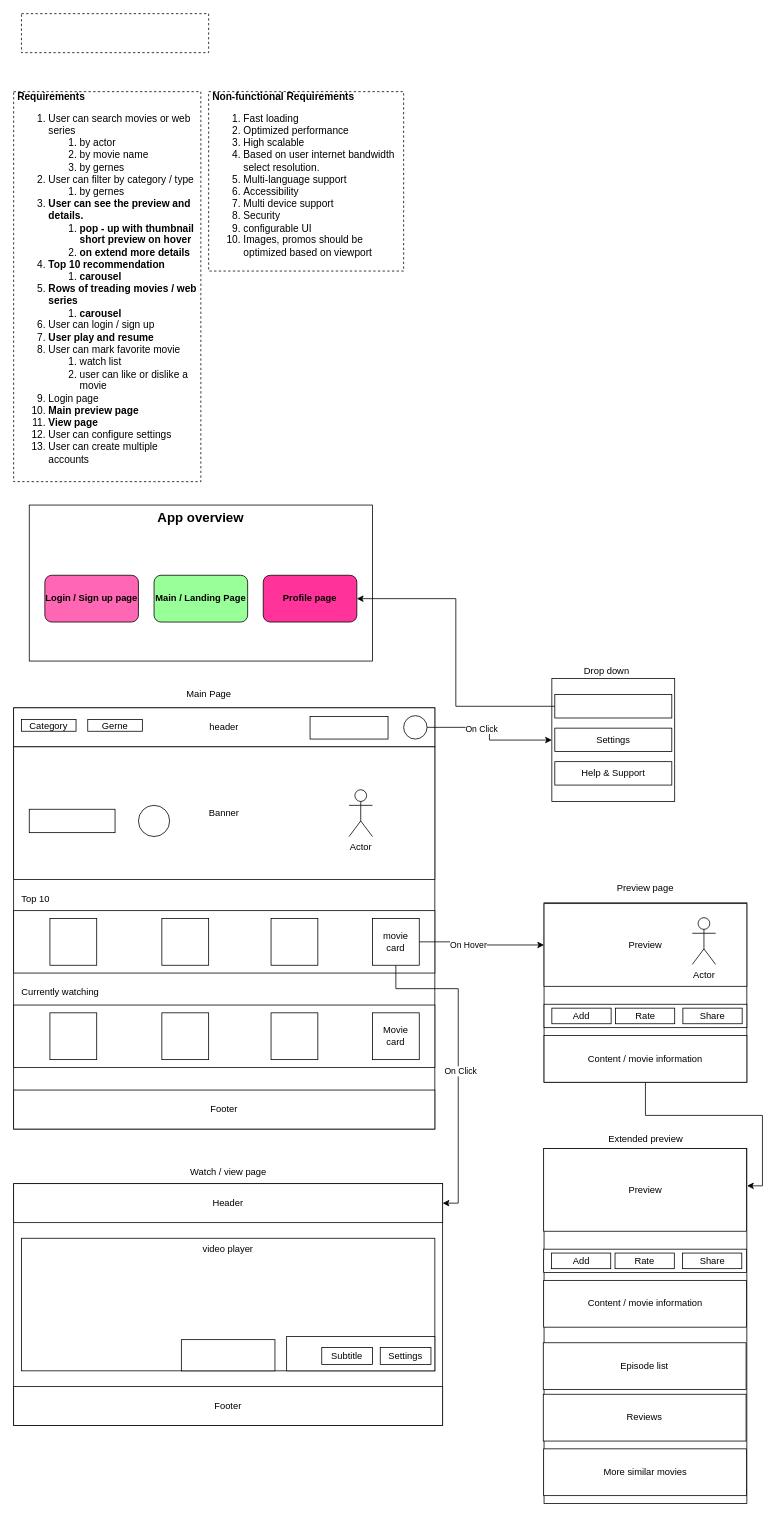
The diagram is 782 pixels wide and 1517 high, and some of its shapes have lost their labels. The centre of each missing label's shape, as x and y in pixels:
Account: point (613, 706)
Info: point (154, 821)
Netflix System Design: point (115, 33)
Play: point (71, 820)
play / pause: point (228, 1355)
Profile: point (415, 727)
Search: point (348, 727)
